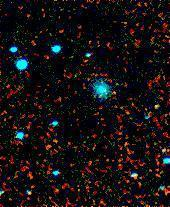star: (141, 91, 170, 121)
